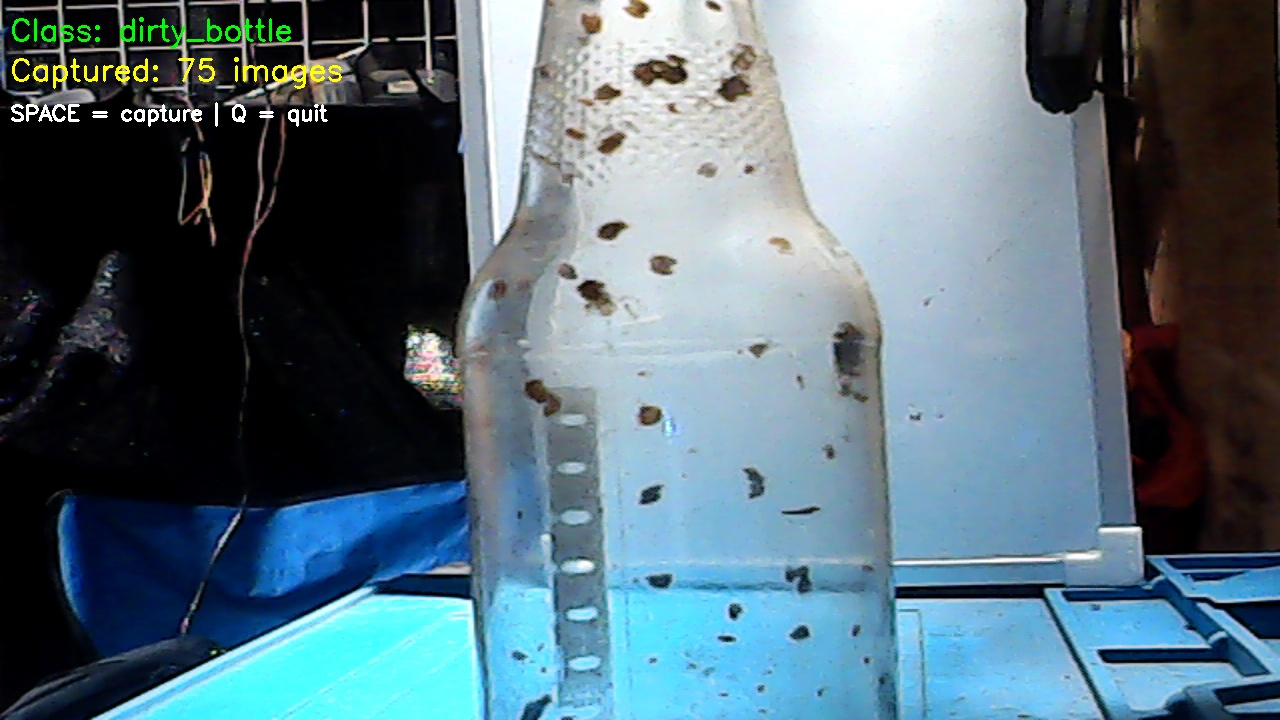dirty_bottle: (453, 4, 898, 720)
